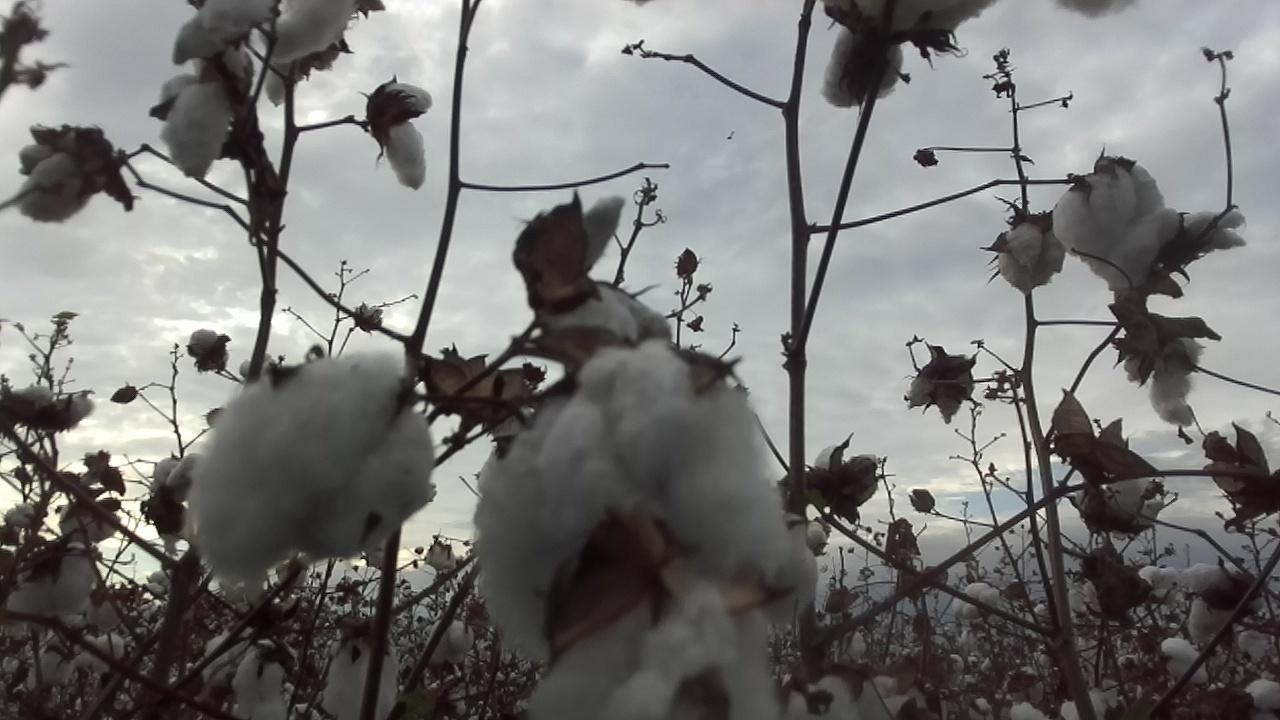cotton_ready: (473, 337, 814, 664), (189, 350, 435, 586), (527, 602, 782, 720), (543, 194, 674, 345), (822, 0, 992, 107), (1080, 209, 1250, 294), (1054, 162, 1162, 258), (264, 0, 357, 106), (0, 544, 104, 619), (1121, 334, 1205, 424), (161, 72, 230, 178), (323, 627, 400, 720), (170, 0, 264, 75), (16, 129, 89, 222), (777, 674, 912, 720), (1181, 560, 1247, 648), (381, 84, 432, 189), (232, 640, 297, 720), (152, 450, 204, 545), (997, 225, 1065, 297), (806, 445, 879, 507), (1077, 481, 1165, 532), (901, 357, 972, 412), (11, 387, 97, 424), (1054, 0, 1139, 17)
